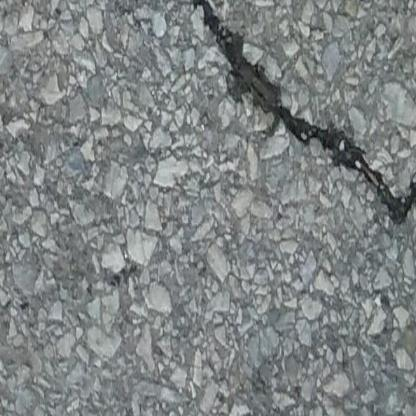Cracks: (141, 0, 416, 228)
